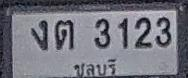1: (118, 18, 128, 48)
2: (134, 16, 152, 47)
3: (155, 16, 171, 47), (94, 18, 110, 48)
A07: (31, 20, 48, 50)
A21: (55, 19, 74, 50)
CBI: (71, 57, 120, 78)
